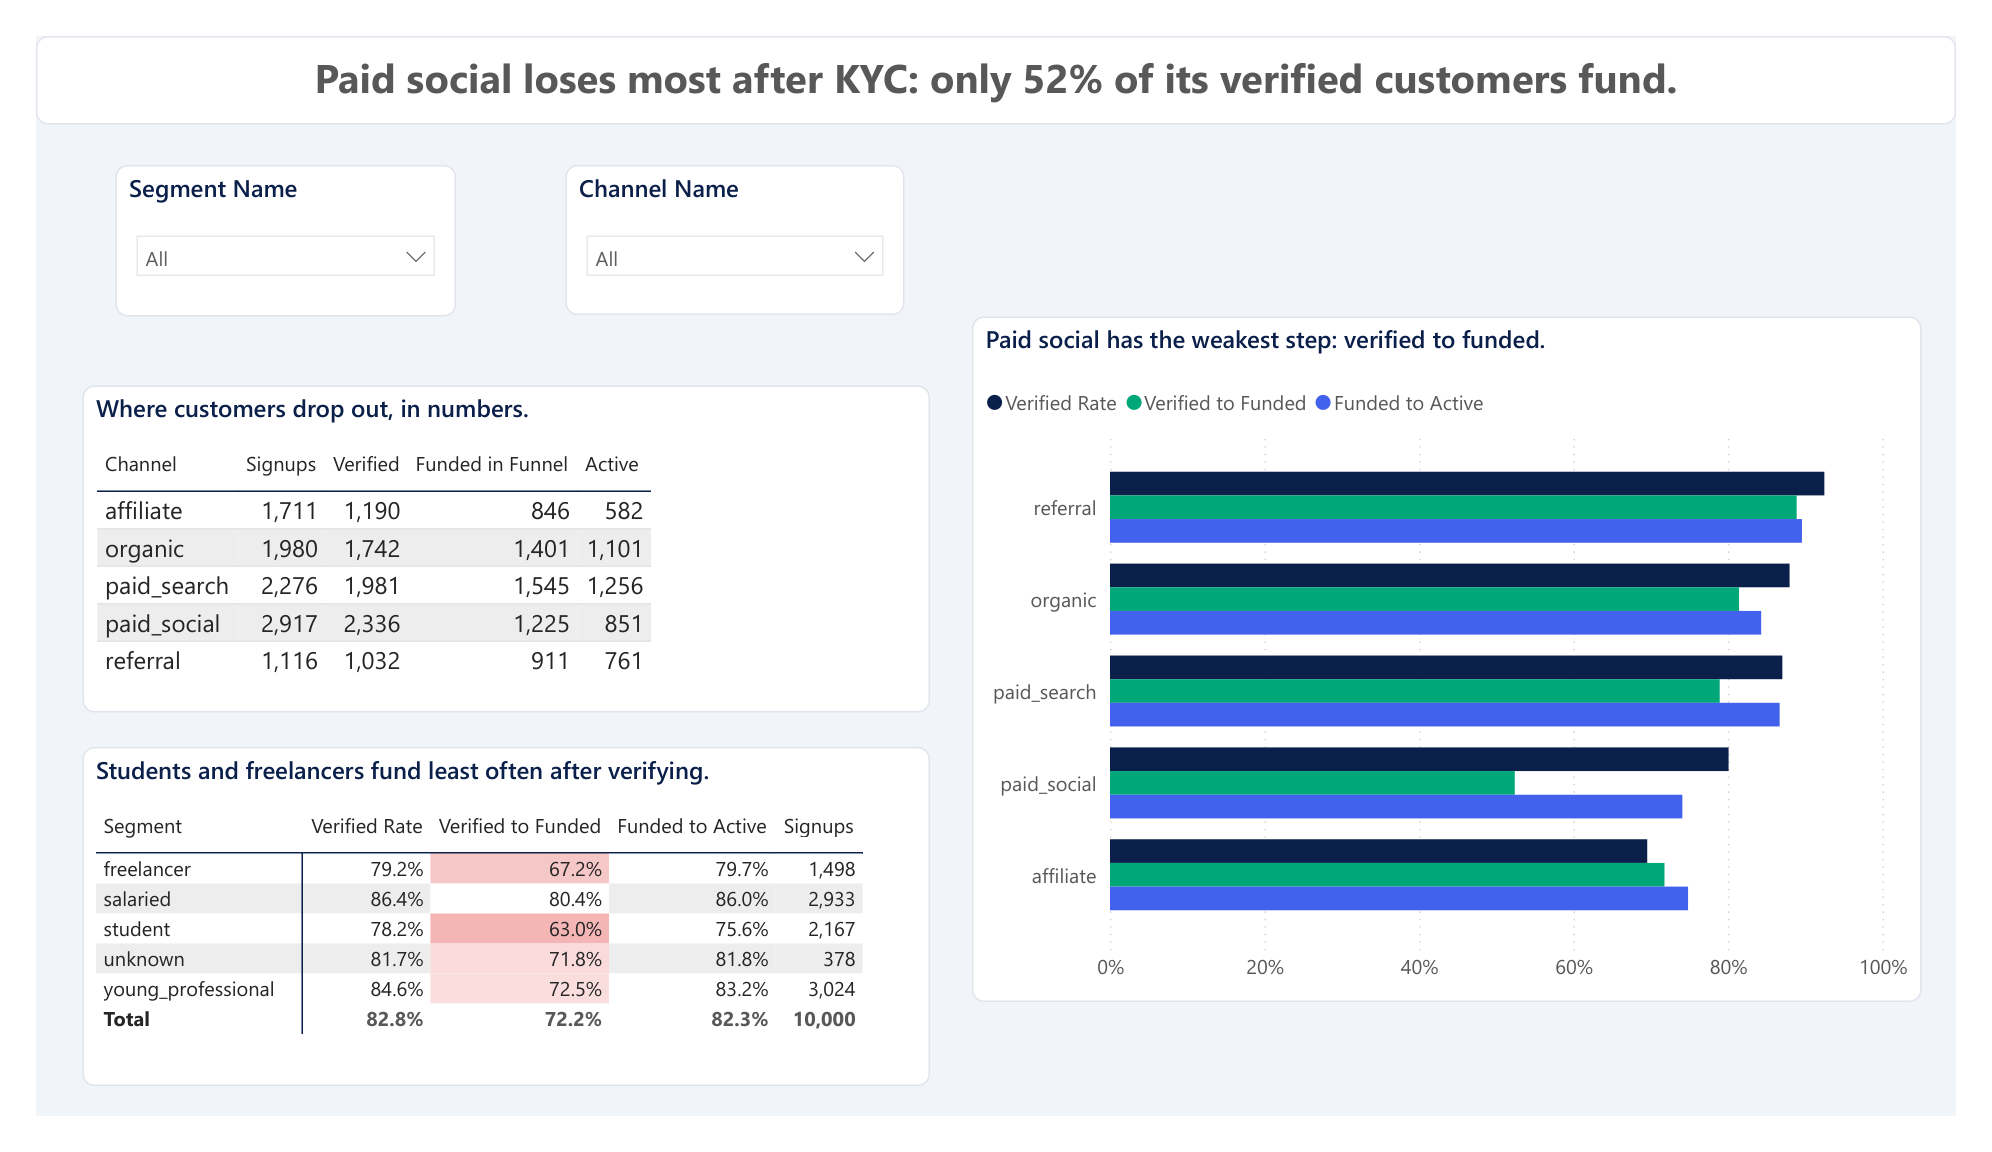

Layout of this report page (visuals, bound fields, positions):
{"tool":"powerbi","page":{"name":"Funnel","canvas":[1280,720],"ordinal":1},"visuals":[{"type":"textbox","box":[0,0,1280,58.6],"z":0},{"type":"slicer","title":"Channel Name","fields":{"Values":["dim channel.channel_name"]},"box":[352.9,85.7,225.7,100],"z":1000},{"type":"slicer","title":"Segment Name","fields":{"Values":["rpt v_funnel.segment"]},"box":[52.9,85.7,227.1,101.4],"z":2000},{"type":"tableEx","title":"Where customers drop out, in numbers.","fields":{"Values":["dim channel.channel_name","_Measures.Signups","_Measures.Verified","_Measures.Funded in Funnel","_Measures.Active"]},"box":[31.4,232.9,564.3,218.6],"z":3000},{"type":"clusteredBarChart","title":"Paid social has the weakest step: verified to funded.","fields":{"Category":["dim channel.channel_name"],"Y":["_Measures.Verified Rate","_Measures.Verified to Funded","_Measures.Funded to Active"]},"box":[624.3,187.1,632.9,457.1],"z":4000},{"type":"pivotTable","title":"Students and freelancers fund least often after verifying.","fields":{"Rows":["rpt v_funnel.segment"],"Values":["_Measures.Verified Rate","_Measures.Verified to Funded","_Measures.Funded to Active","_Measures.Signups"]},"box":[31.4,474.3,564.3,225.7],"z":5000}]}

Visuals, with their boxes in screenshot pixels (x1, y1, x2, y2), scaled from the page's 1280x720 canvas onto the 1992x1152 screenshot:
textbox: <bbox>0, 0, 1991, 94</bbox>
"Channel Name" slicer: <bbox>549, 137, 900, 297</bbox>
"Segment Name" slicer: <bbox>82, 137, 436, 299</bbox>
"Where customers drop out, in numbers." tableEx: <bbox>49, 373, 927, 722</bbox>
"Paid social has the weakest step: verified to funded." clusteredBarChart: <bbox>972, 299, 1957, 1031</bbox>
"Students and freelancers fund least often after verifying." pivotTable: <bbox>49, 759, 927, 1120</bbox>
